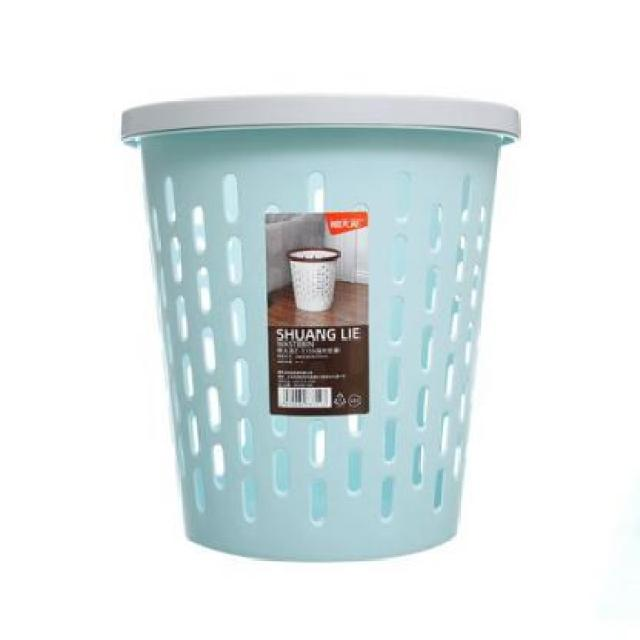dustbin: (114, 86, 526, 569)
